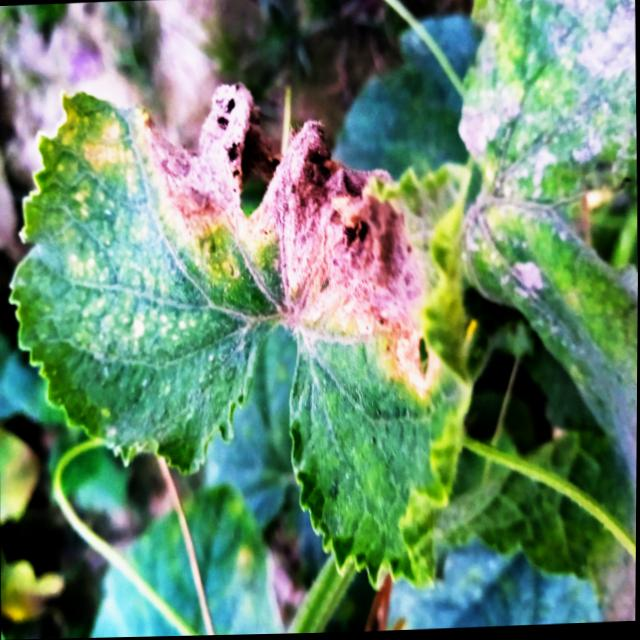Gummy-Stem-Blight: (134, 77, 442, 409)
